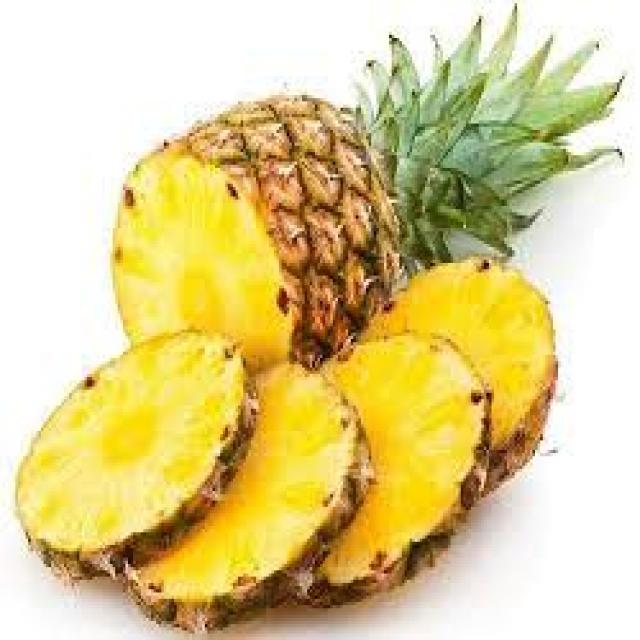organic waste: (110, 86, 399, 377), (348, 0, 622, 272), (120, 355, 377, 637), (13, 323, 256, 583), (284, 326, 494, 608), (356, 250, 558, 494)
